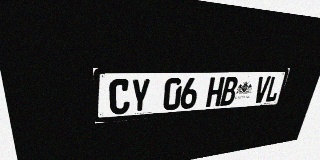0: (162, 78, 183, 111)
6: (179, 77, 199, 109)
B: (220, 77, 239, 106)
C: (109, 79, 130, 115)
H: (205, 77, 225, 107)
L: (264, 76, 282, 102)
V: (253, 76, 271, 103)
Y: (130, 78, 151, 113)
